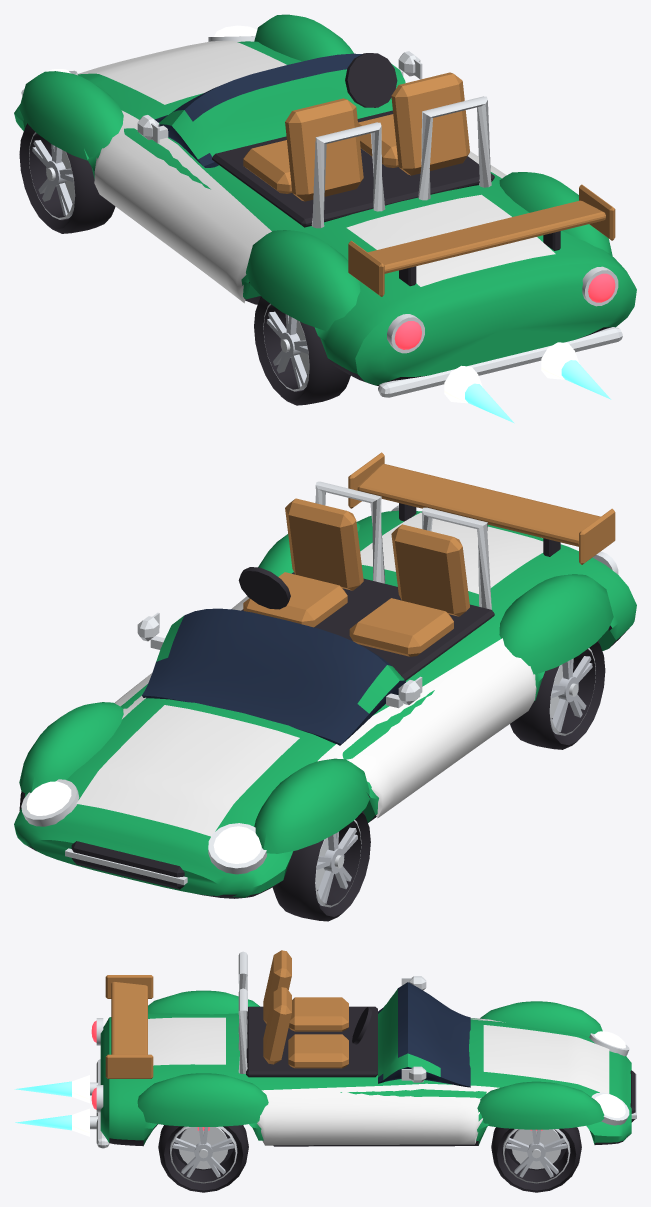
The model's file is car_roadster.glb.
3 views of the same model, one above another, from view 1: azimuth 30°, elevation 25°; view 2: azimuth 150°, elevation 25°; view 3: azimuth 270°, elevation 25° (orthographic). The views are drawn at different scales.
Visible parts, largest first — view 1: Body, Vinyl, Spoiler, WheelFL, WheelRL, NitroFlame; view 2: Body, Vinyl, Spoiler, WheelFL, WheelRL; view 3: Body, Vinyl, WheelRR, WheelFR, Spoiler, NitroFlame.
Boxes of the visible parts, box(x1,y1,x2,y2) form: Body: box(14, 14, 636, 397); Vinyl: box(78, 40, 555, 303); Spoiler: box(348, 184, 615, 296); WheelFL: box(19, 123, 115, 233); WheelRL: box(254, 296, 350, 405); NitroFlame: box(444, 342, 611, 423); Body: box(14, 481, 636, 898); Vinyl: box(76, 512, 543, 836); Spoiler: box(348, 452, 615, 564); WheelFL: box(272, 811, 370, 921); WheelRL: box(510, 641, 605, 749); Body: box(90, 950, 636, 1148); Vinyl: box(148, 1017, 609, 1145); WheelRR: box(158, 1125, 248, 1192); WheelFR: box(491, 1127, 581, 1192); Spoiler: box(105, 975, 153, 1078); NitroFlame: box(14, 1075, 89, 1136).
Size of the model in its own units: 1.95 by 1.39 by 4.72.
